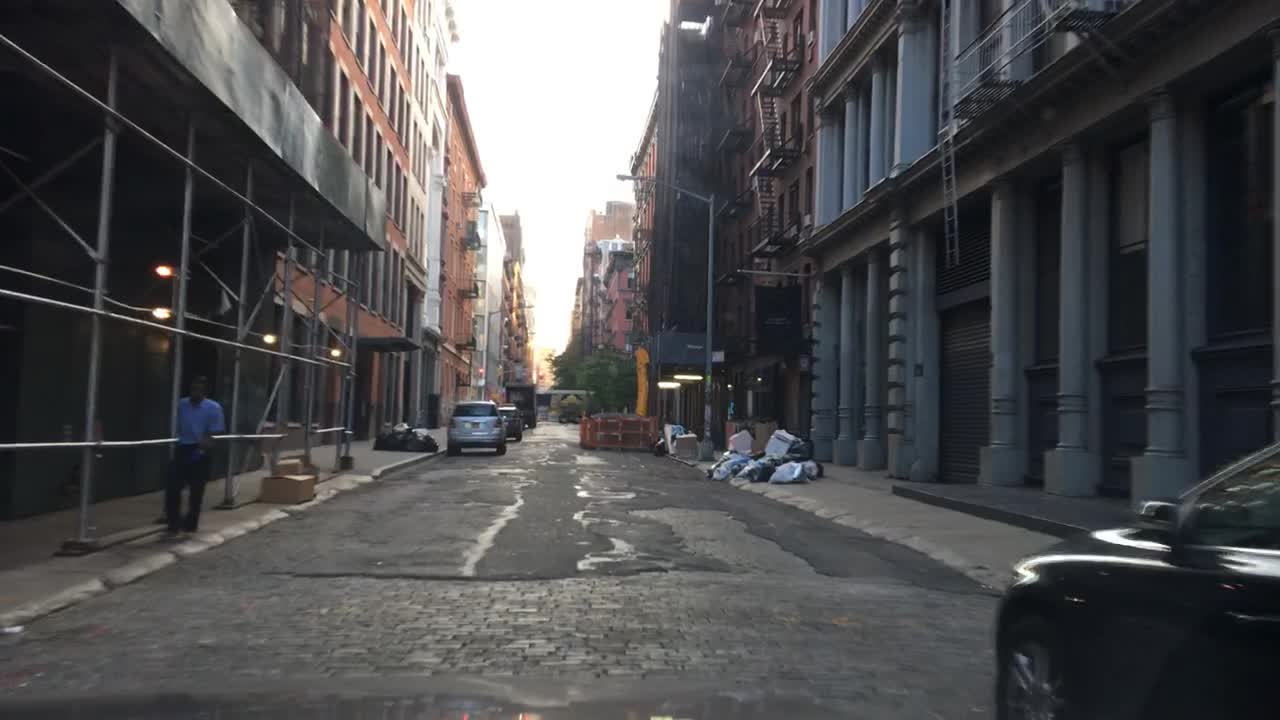car: (985, 428, 1277, 718), (446, 398, 507, 458), (496, 403, 526, 441)
person: (158, 372, 219, 541)
traffic sign: (713, 352, 726, 362)
truck: (504, 382, 541, 428)
